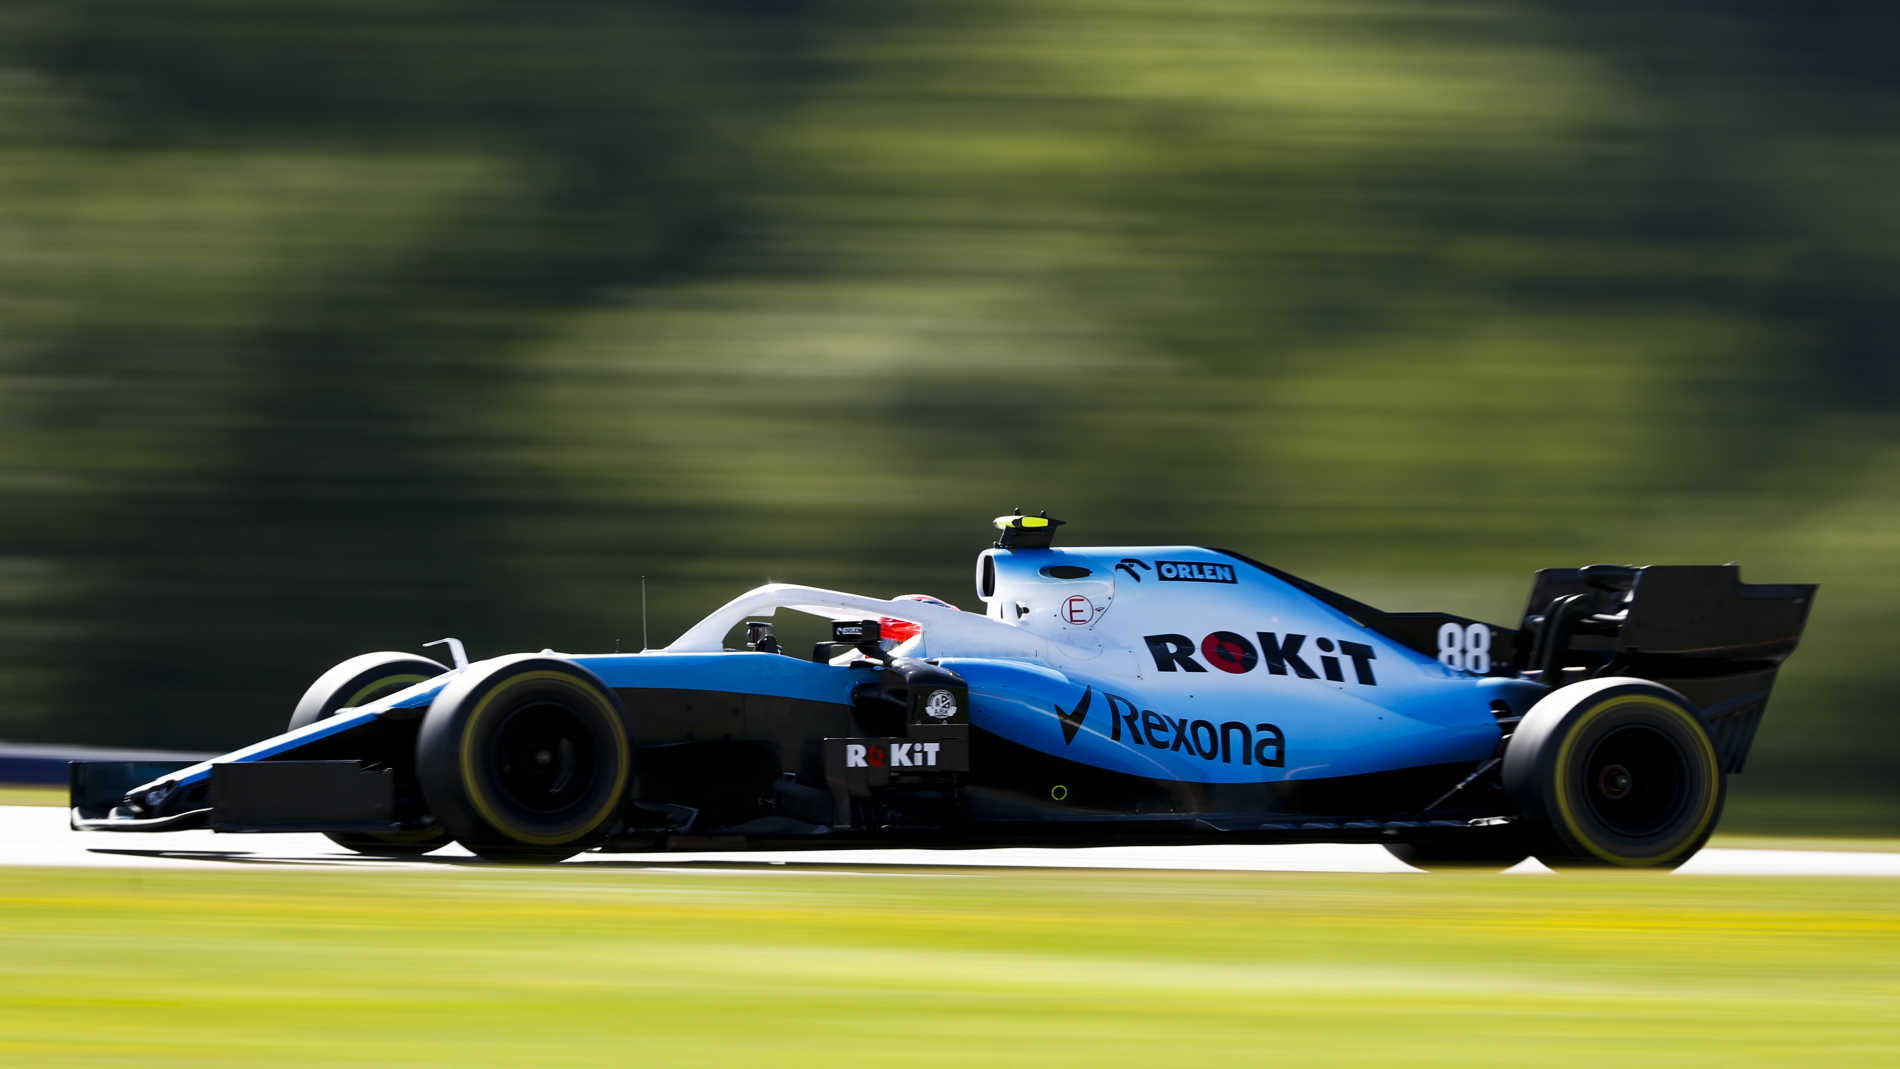f1_car: (50, 473, 1837, 920)
